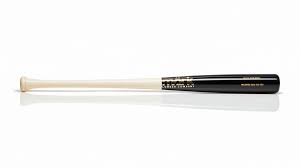bat: (18, 73, 281, 96)
